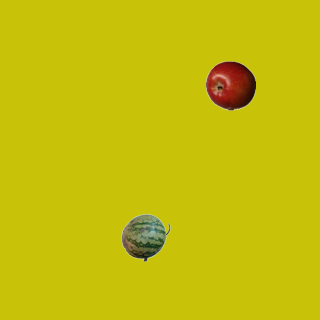Apple Braeburn: (205, 60, 255, 110)
Watermelon: (120, 212, 170, 262)
